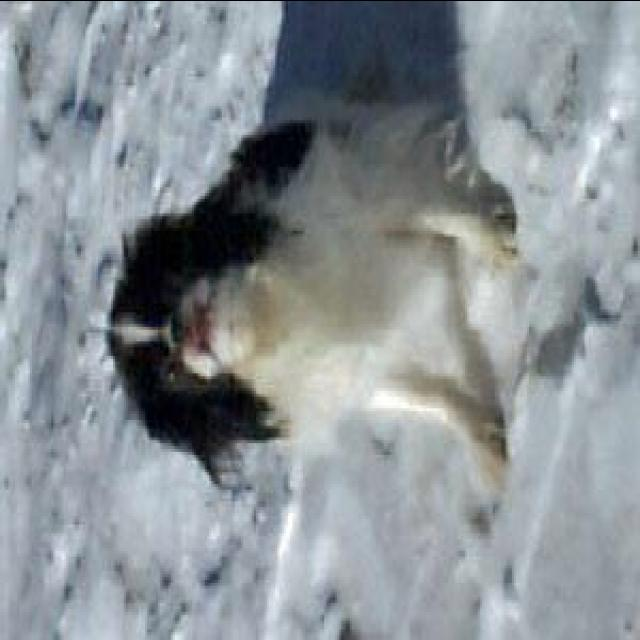husky: (94, 38, 518, 510)
